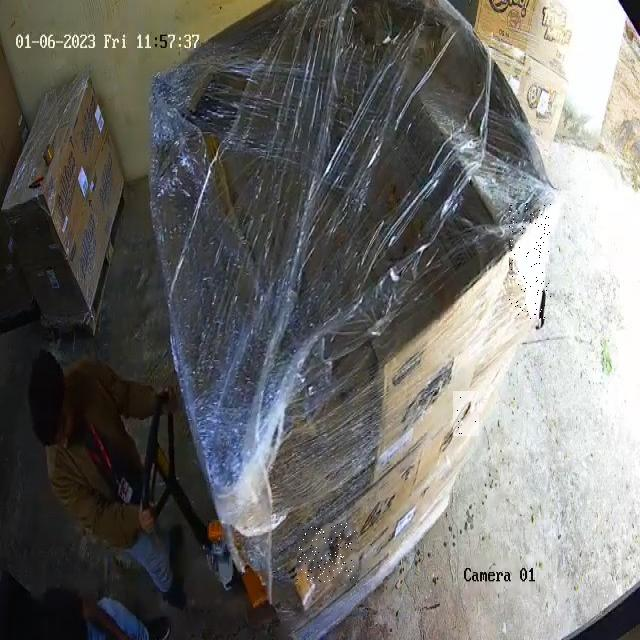leakage: (298, 524, 355, 583), (453, 391, 479, 435)
squeeze: (510, 203, 551, 319)
